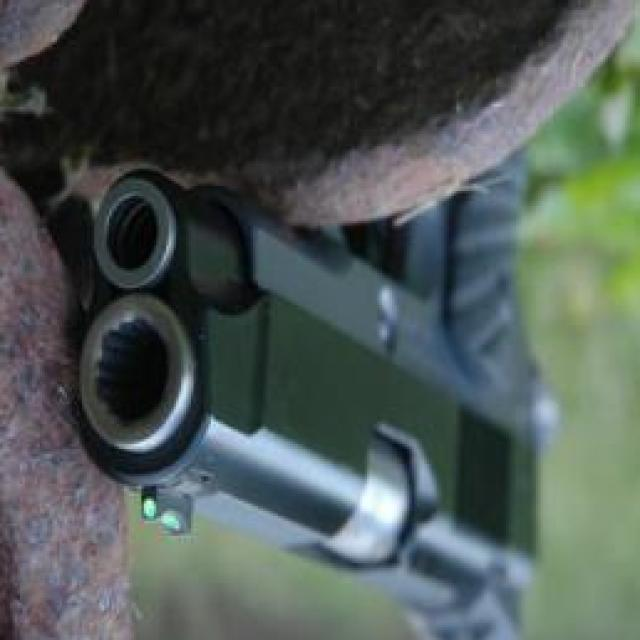pistol: (79, 159, 556, 640)
